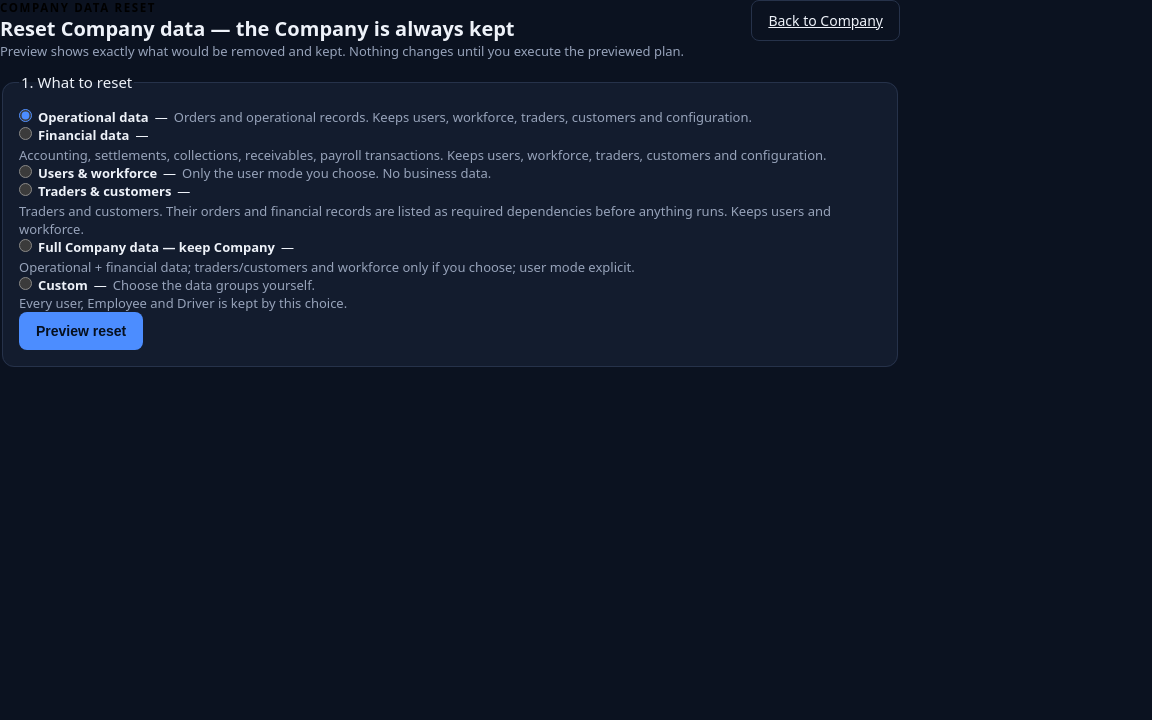
Test: Company Data Reset page › a blocked plan shows its blocked dependencies and offers no execute
Click the button "Preview reset": {"x": 81, "y": 331} [19,312,143,350]
(page scrolled)
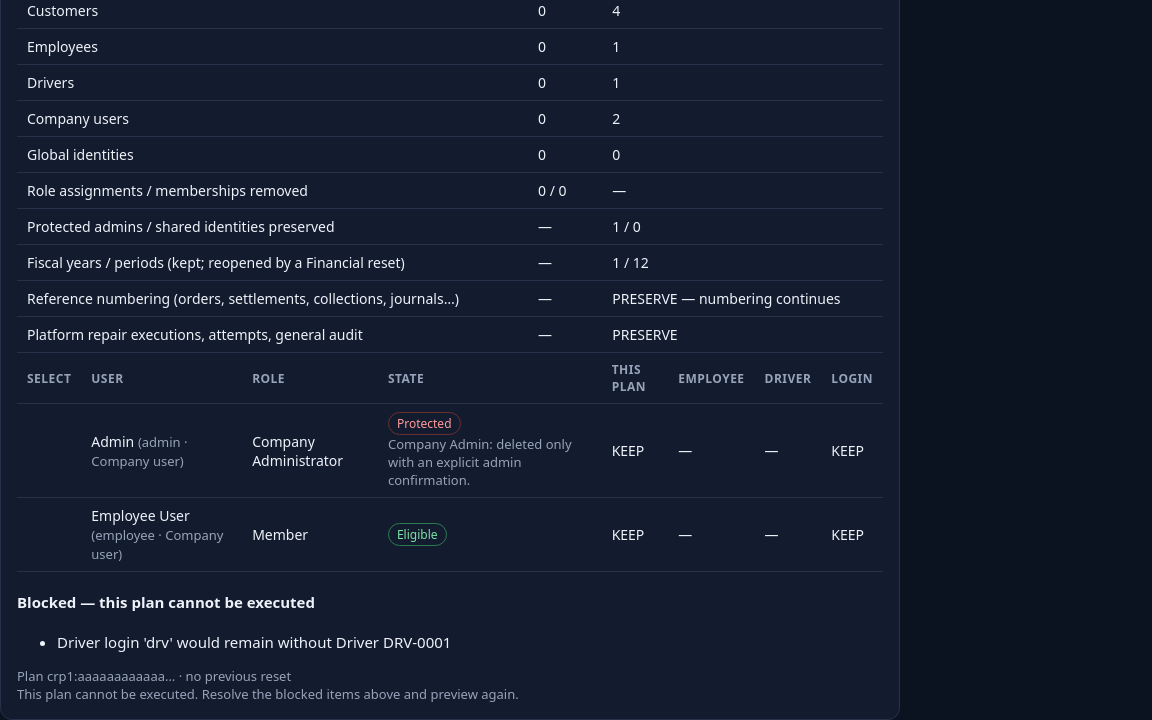
Now the list named "Blockers" shows "would remain without Driver", box [57,632,451,652]
Now the text with test id "not-executable" is shown, box [17,685,519,703]
